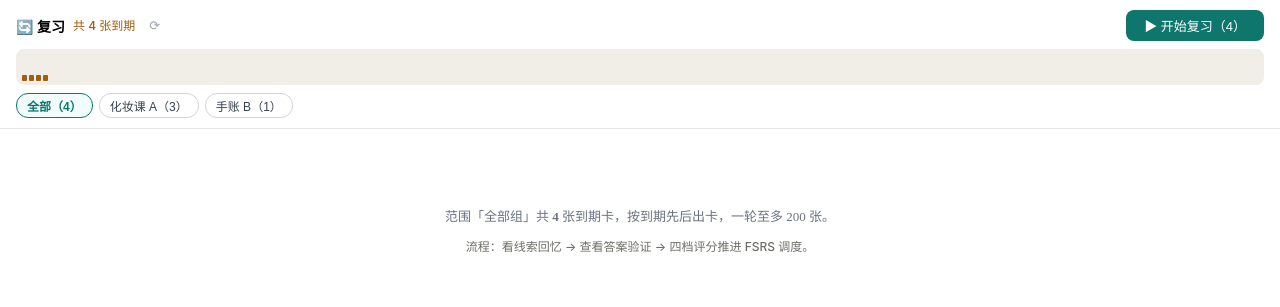
Test case: ReviewPage 总览与组过滤器 › 切组过滤 → 开始复习按该组范围挂载会话（list_due_cards 组过滤契约）
Step 1. Click the button with test id "review-scope-1" → (149, 106), box [99,93,199,118]
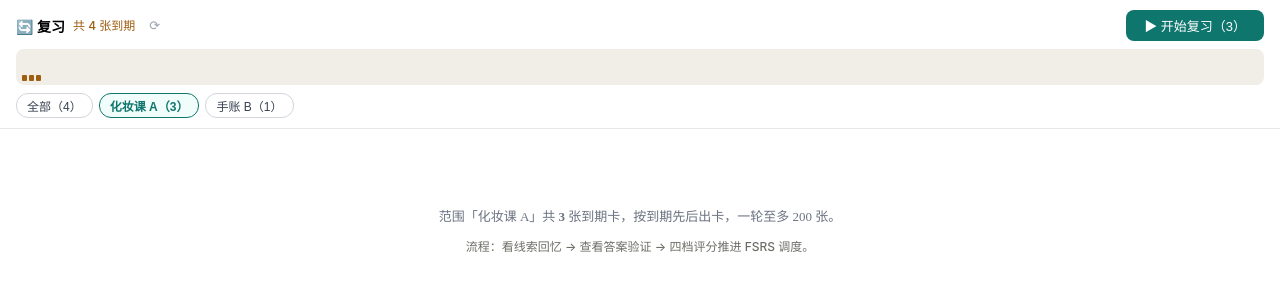
Expected: the button with test id "review-start" shows "3"
Step 2. Click the button with test id "review-start" → (1195, 26), box [1126,10,1264,41]
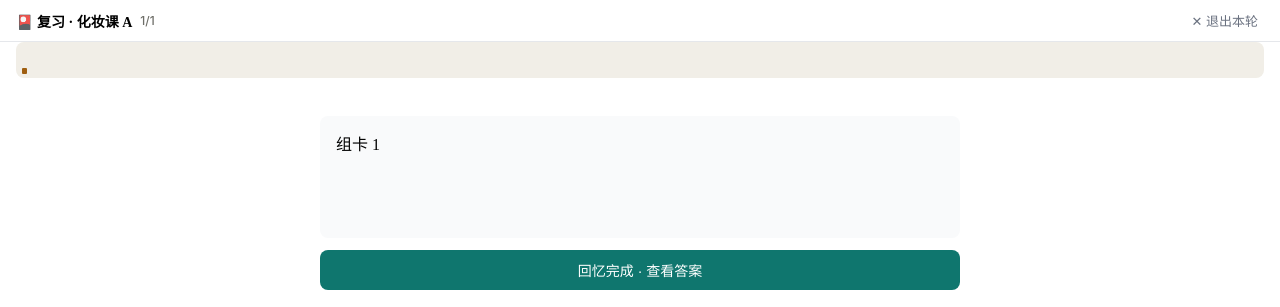
Expected: the text "🎴 复习 · 化妆课 A" is shown, [16,10,132,30]
Expected: the text "组卡 1" is shown, [320,116,960,238]
